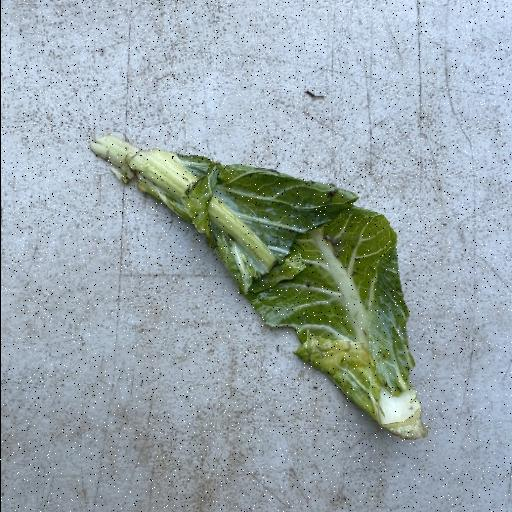Waste: (89, 132, 430, 442)
